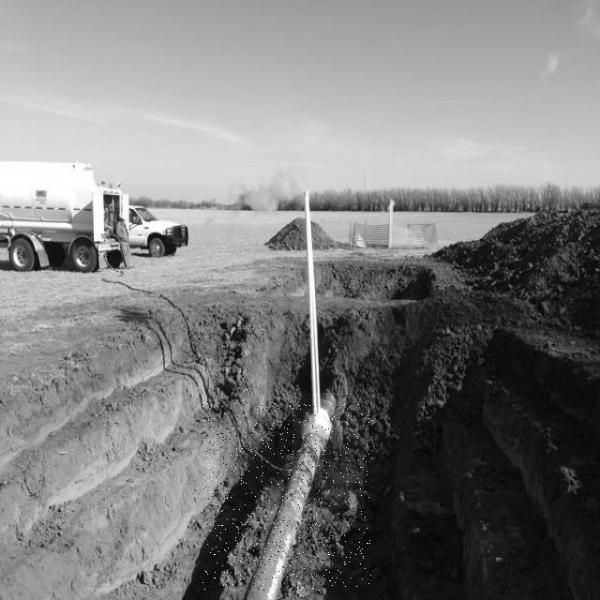water: (292, 393, 364, 509)
